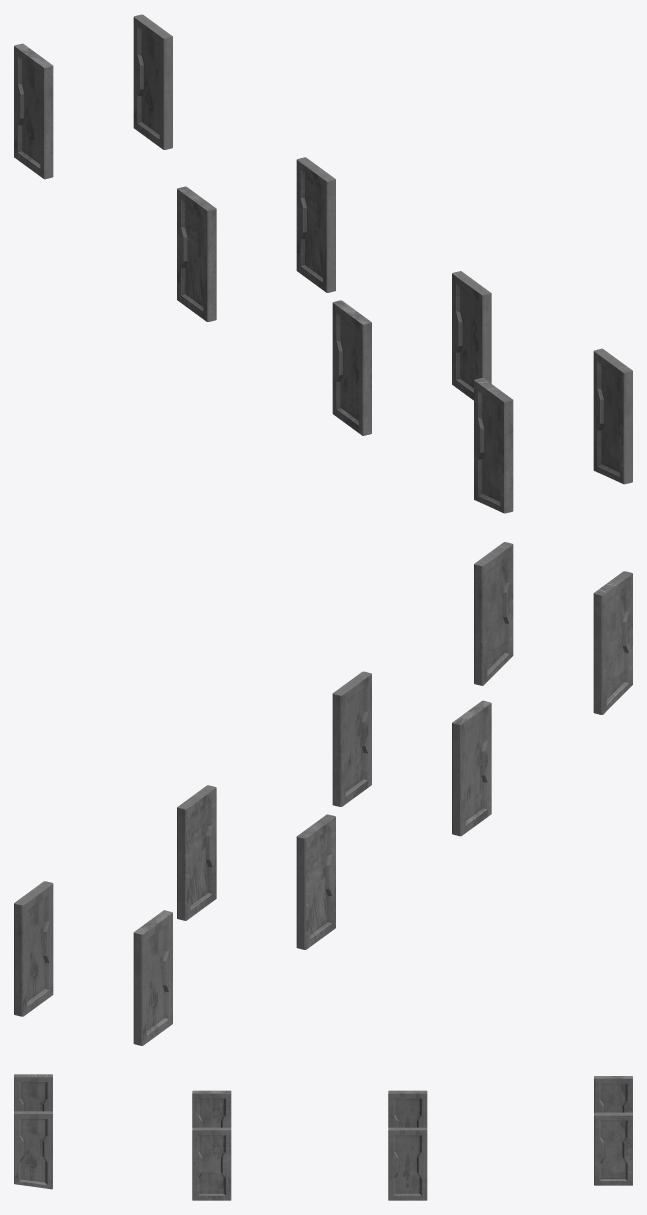
File: Doors_Seperate.fbx
3 renders of one model, top to bottom at view 1: azimuth 30°, elevation 25°; view 2: azimuth 150°, elevation 25°; view 3: azimuth 270°, elevation 25°, orthographic. The views are drawn at different scales.
Visible parts, largest first — view 1: Doors.006, Doors.007, Doors, Doors.004, Doors.002, Doors.001, Doors.003, Doors.005; view 2: Doors.007, Doors.006, Doors, Doors.001, Doors.004, Doors.002, Doors.003, Doors.005; view 3: Doors.006, Doors.003, Doors.005, Doors.001, Doors.002, Doors.004, Doors.007, Doors.
Part boxes in pixels (<box>): Doors.006: <box>593,348,632,484</box>; Doors.007: <box>474,378,513,513</box>; Doors: <box>14,43,53,179</box>; Doors.004: <box>332,300,371,435</box>; Doors.002: <box>177,186,216,321</box>; Doors.001: <box>133,14,172,149</box>; Doors.003: <box>296,157,335,292</box>; Doors.005: <box>452,271,491,400</box>; Doors.007: <box>593,571,632,714</box>; Doors.006: <box>474,542,513,685</box>; Doors: <box>133,910,172,1045</box>; Doors.001: <box>14,881,53,1016</box>; Doors.004: <box>452,700,491,836</box>; Doors.002: <box>296,814,335,949</box>; Doors.003: <box>177,785,216,920</box>; Doors.005: <box>332,671,371,806</box>; Doors.006: <box>14,1111,52,1189</box>; Doors.003: <box>388,1127,427,1200</box>; Doors.005: <box>192,1127,231,1200</box>; Doors.001: <box>594,1112,632,1185</box>; Doors.002: <box>388,1090,427,1127</box>; Doors.004: <box>192,1090,231,1127</box>; Doors.007: <box>14,1074,52,1111</box>; Doors: <box>594,1076,632,1112</box>.
Size of the model in its own units: 4212 by 650 by 639.
Materials: 1 (1 with a texture image).
